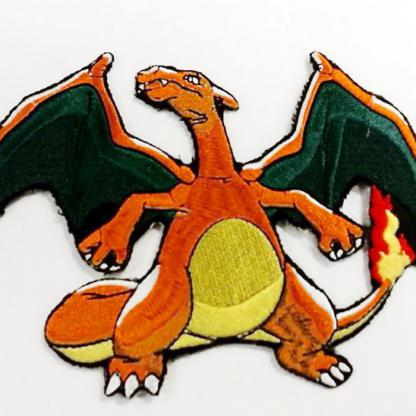Charizard: (1, 34, 416, 389)
